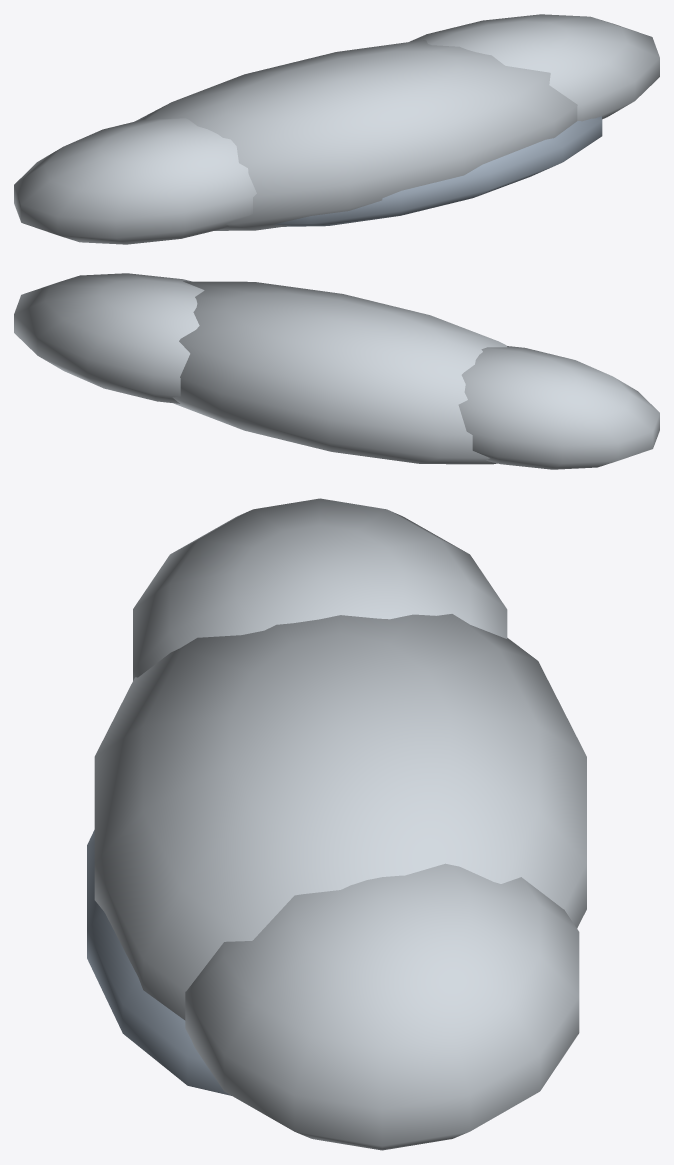
The model's file is air_cloud_cluster.glb.
3 views of the same model, one above another, from view 1: azimuth 30°, elevation 25°; view 2: azimuth 150°, elevation 25°; view 3: azimuth 270°, elevation 25° (orthographic). The views are drawn at different scales.
Visible parts, largest first — view 1: air_cloud_cluster; view 2: air_cloud_cluster; view 3: air_cloud_cluster.
Part boxes in pixels (bbox=[...]): air_cloud_cluster: bbox=[14, 14, 659, 244]; air_cloud_cluster: bbox=[14, 273, 659, 469]; air_cloud_cluster: bbox=[87, 498, 586, 1150].
Size of the model in its own units: 6.87 by 1.1 by 2.41.
